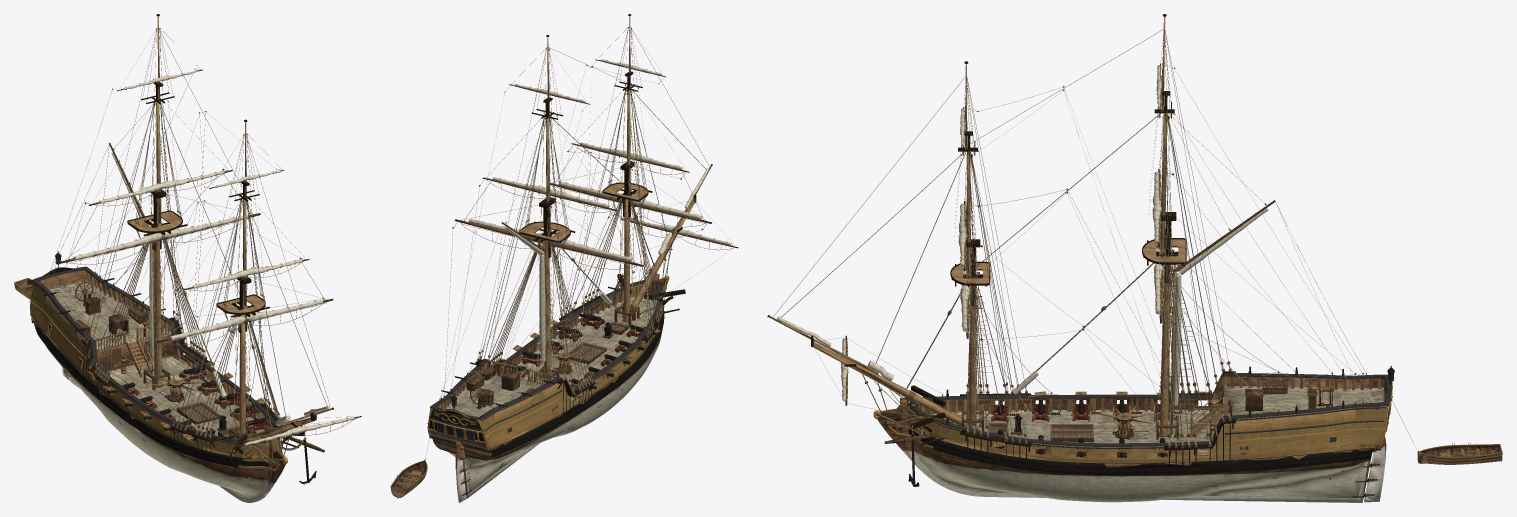
The model's file is snow_lod1.glb.
3 renders of one model, left to right at view 1: azimuth 30°, elevation 25°; view 2: azimuth 150°, elevation 25°; view 3: azimuth 270°, elevation 25°, orthographic. The views are drawn at different scales.
Parts seen in each view (by area): view 1: snow_lod1; view 2: snow_lod1; view 3: snow_lod1.
Part boxes in pixels (x1=…): snow_lod1: x1=14, y1=14, x2=361, y2=502; snow_lod1: x1=390, y1=14, x2=738, y2=502; snow_lod1: x1=767, y1=14, x2=1502, y2=502.
Bounding box in the file's own units: 15.82 × 32.36 × 44.22.
Materials: 33 (33 with a texture image).
